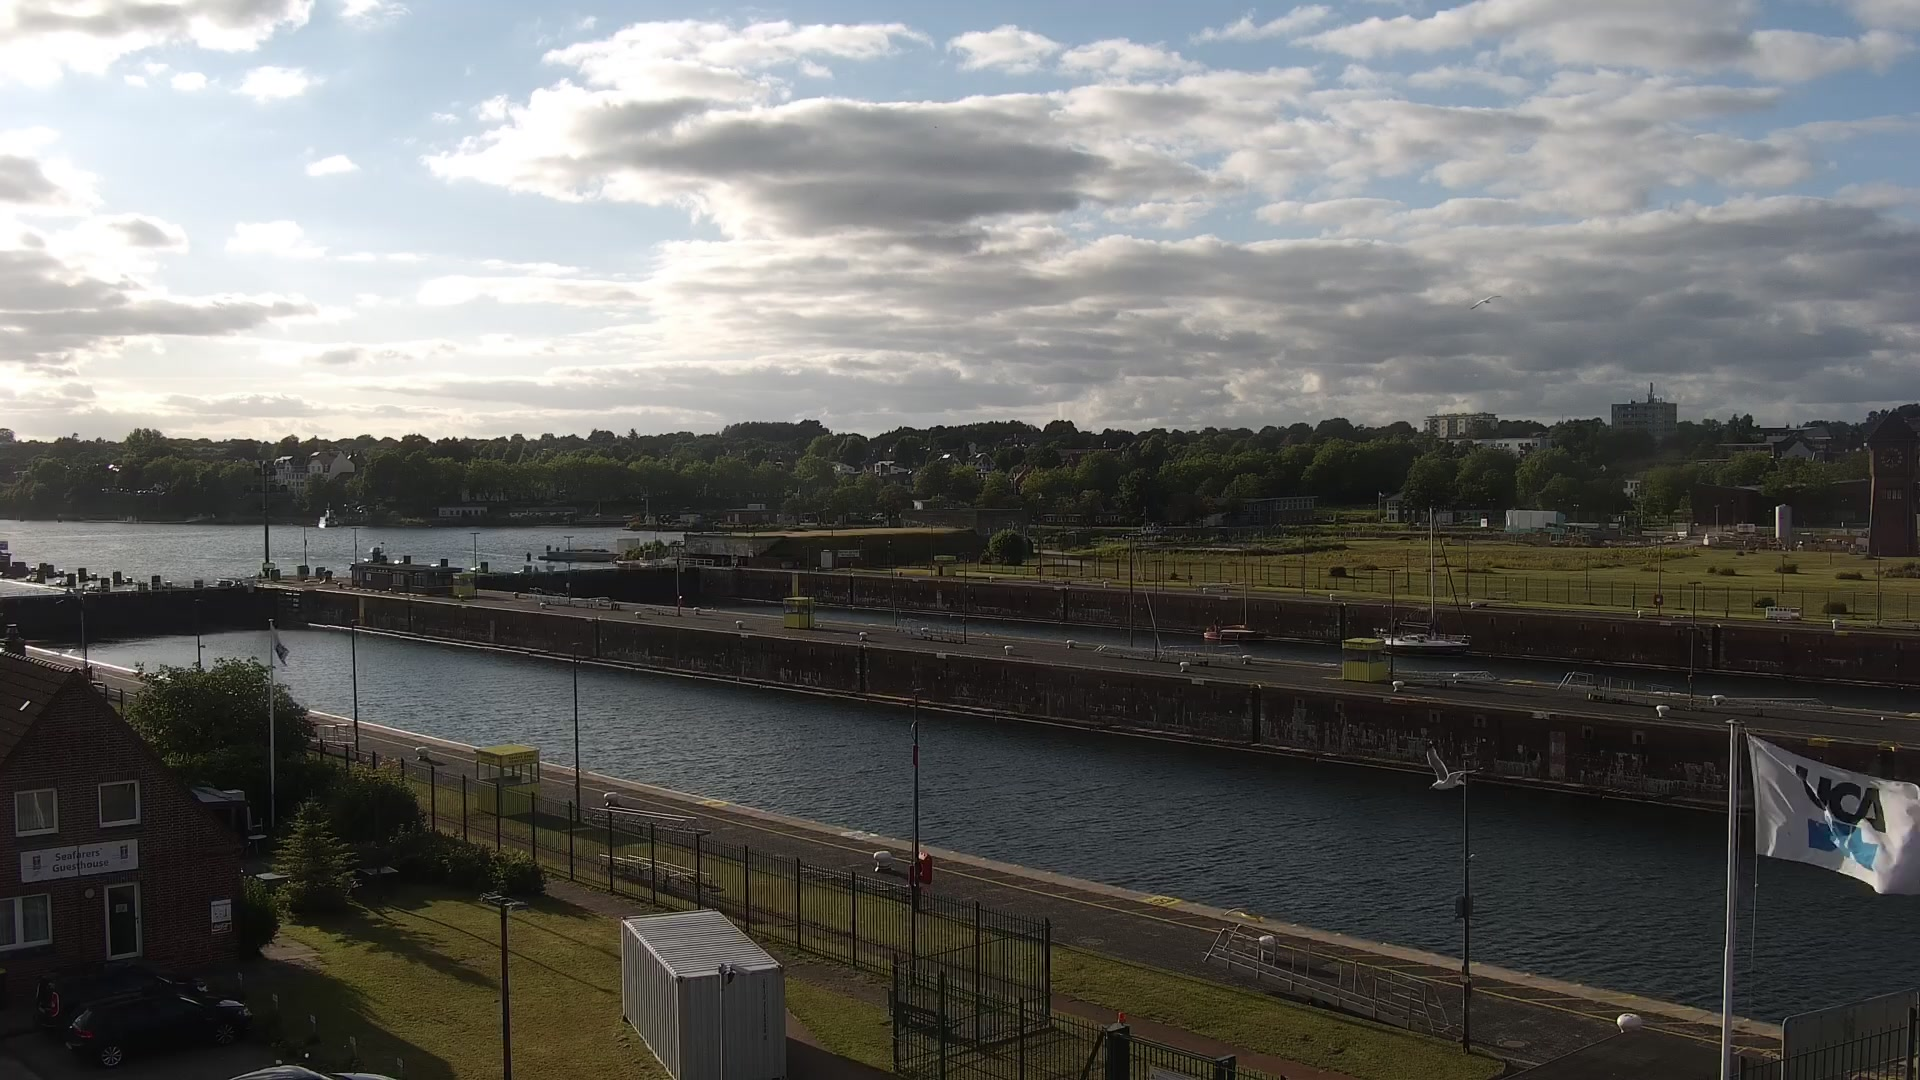land: (62, 988, 252, 1067), (32, 957, 208, 1035), (219, 1062, 397, 1080), (872, 512, 886, 520)
sea: (1371, 502, 1472, 657), (1201, 543, 1265, 641), (316, 498, 339, 529)
